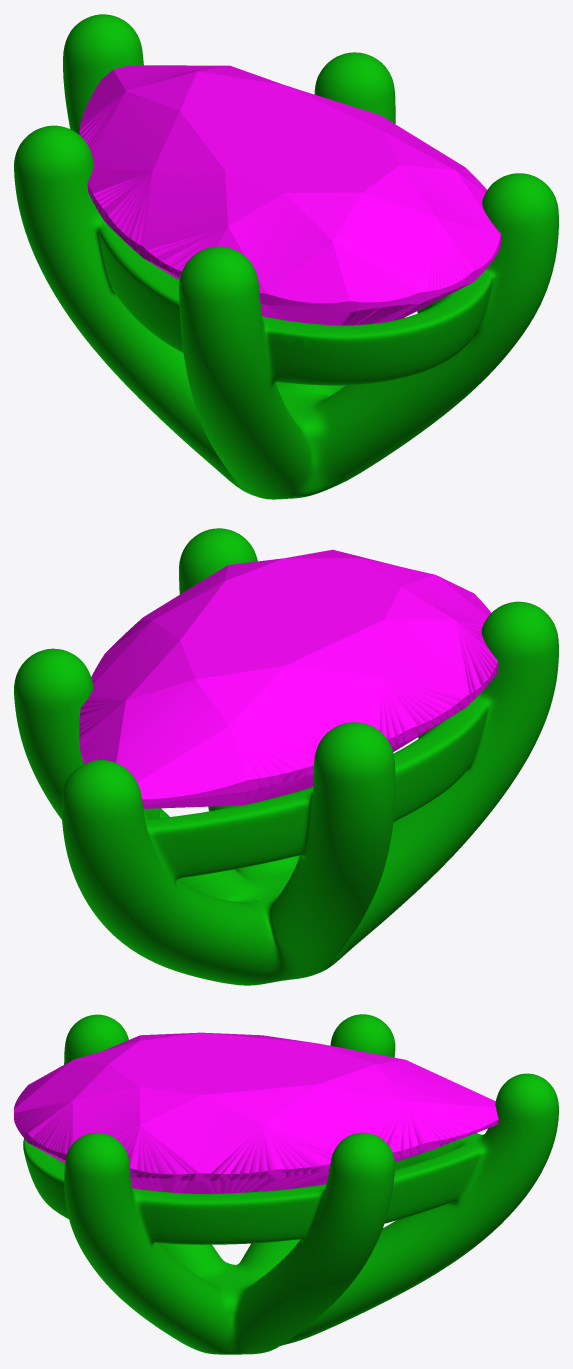
The picture shows the model from 3 angles, top to bottom: view 1: azimuth 30°, elevation 25°; view 2: azimuth 150°, elevation 25°; view 3: azimuth 270°, elevation 25°; orthographic projection. The views are drawn at different scales.
Parts seen in each view (by area): view 1: Metal01, Diamond_Pear; view 2: Metal01, Diamond_Pear; view 3: Metal01, Diamond_Pear.
Boxes of the visible parts, x1,y1,x2,y2 form: Metal01: (14,14,558,499); Diamond_Pear: (79,65,501,325); Metal01: (14,528,558,985); Diamond_Pear: (79,549,498,808); Metal01: (23,1014,558,1354); Diamond_Pear: (14,1032,498,1193).
Bounding box in the file's own units: 5.67 × 5.03 × 8.97.
